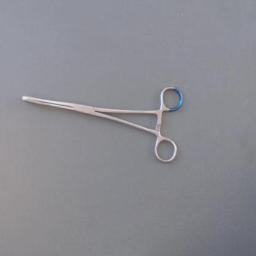Sponge Forceps: (20, 80, 184, 168)
